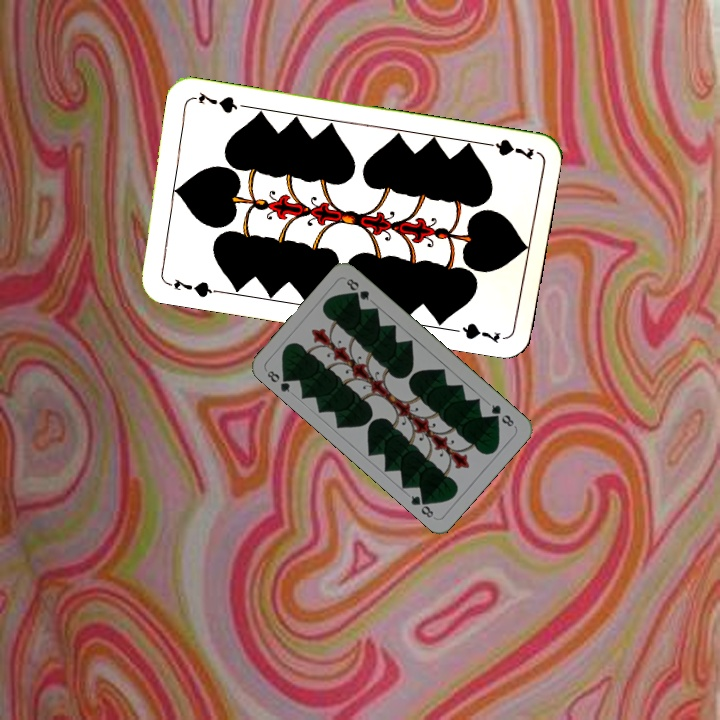G7: (478, 135, 537, 163), (162, 274, 220, 300)
G8: (263, 366, 294, 395), (487, 400, 517, 429)
